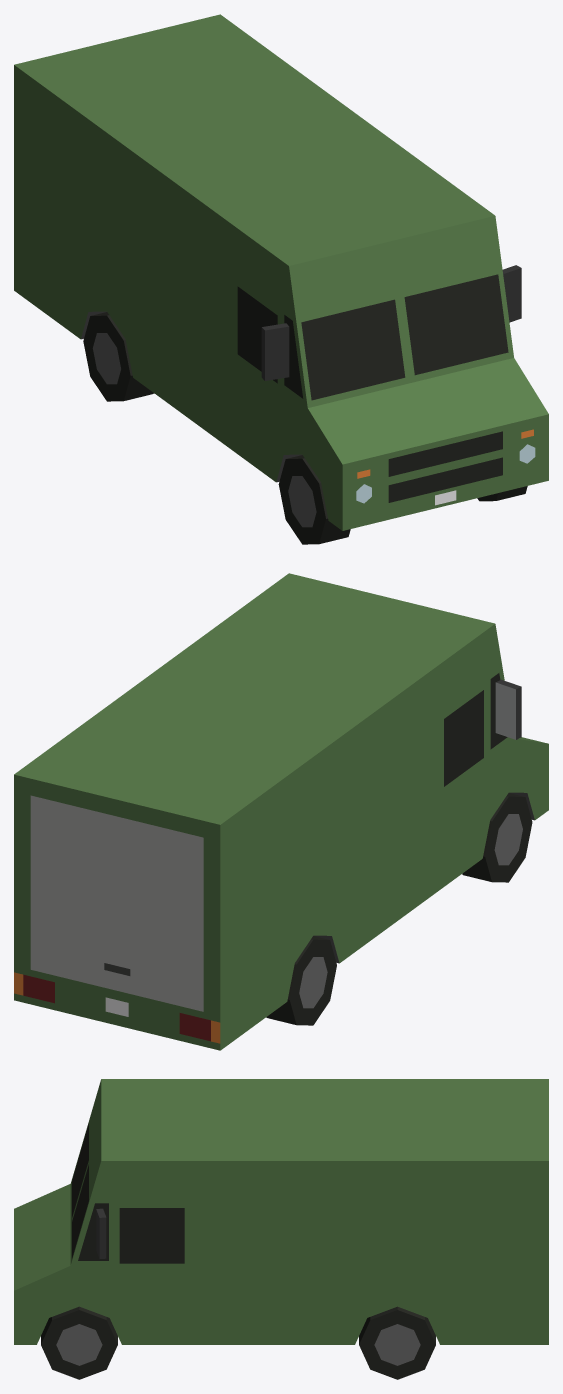
The model's file is Veh_StepVan_01_Green.glb.
The picture shows the model from 3 angles, top to bottom: view 1: azimuth 30°, elevation 25°; view 2: azimuth 150°, elevation 25°; view 3: azimuth 270°, elevation 25°; orthographic projection. The views are drawn at different scales.
Visible parts, largest first — view 1: StepVan_Green, Wheel_FR, Wheel_RR; view 2: StepVan_Green, Wheel_FR, Wheel_RR; view 3: StepVan_Green, Wheel_FL, Wheel_RL.
Boxes of the visible parts, bbox=[...] form: StepVan_Green: bbox=[14, 14, 548, 530]; Wheel_FR: bbox=[278, 455, 350, 544]; Wheel_RR: bbox=[83, 312, 154, 401]; StepVan_Green: bbox=[14, 573, 548, 1050]; Wheel_FR: bbox=[462, 793, 532, 882]; Wheel_RR: bbox=[266, 936, 336, 1025]; StepVan_Green: bbox=[14, 1079, 548, 1344]; Wheel_FL: bbox=[41, 1306, 117, 1379]; Wheel_RL: bbox=[359, 1306, 435, 1379].
Bounding box in the file's own units: 1.57 × 1.57 × 3.48.
Materials: 1 (1 with a texture image).
